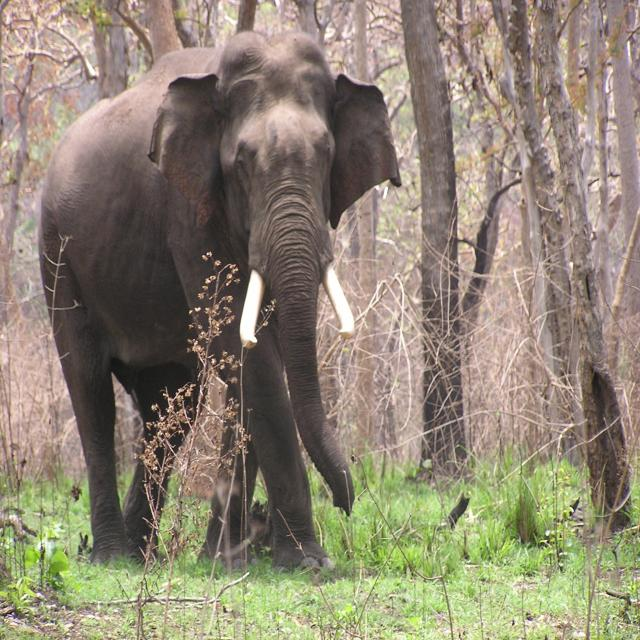Elephant: (29, 28, 396, 560)
